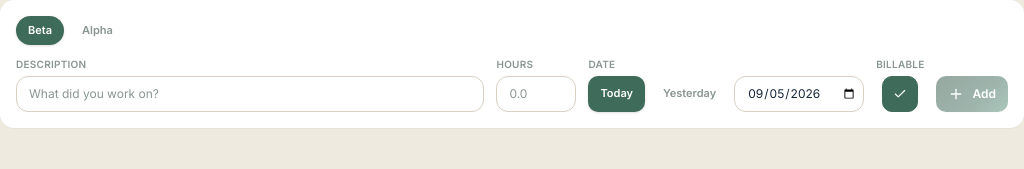
QuickLogForm › clicking a description suggestion fills description and hours
Click the radio button labelled "Alpha" at x=97, y=30, box x1=70 y1=16 x2=125 y2=44
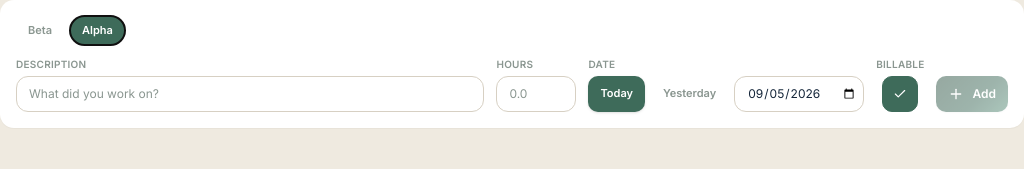
Click the dropdown labelled "Description" at x=250, y=94, box x1=16 y1=76 x2=484 y2=112
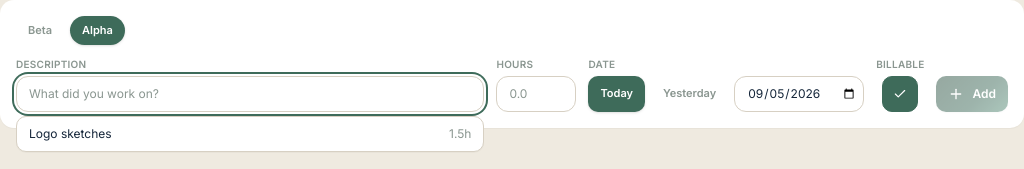
Click the option "Logo sketches 1.5h" at x=70, y=133, box x1=17 y1=116 x2=483 y2=150
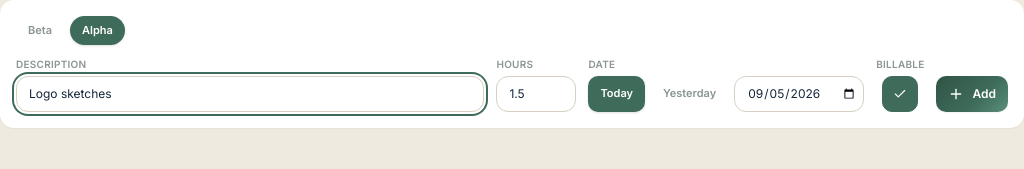
Expected: the dropdown labelled "Description" holds "Logo sketches", x1=16 y1=76 x2=484 y2=112
Expected: the number field labelled "Hours" holds "1.5", x1=496 y1=76 x2=576 y2=112
